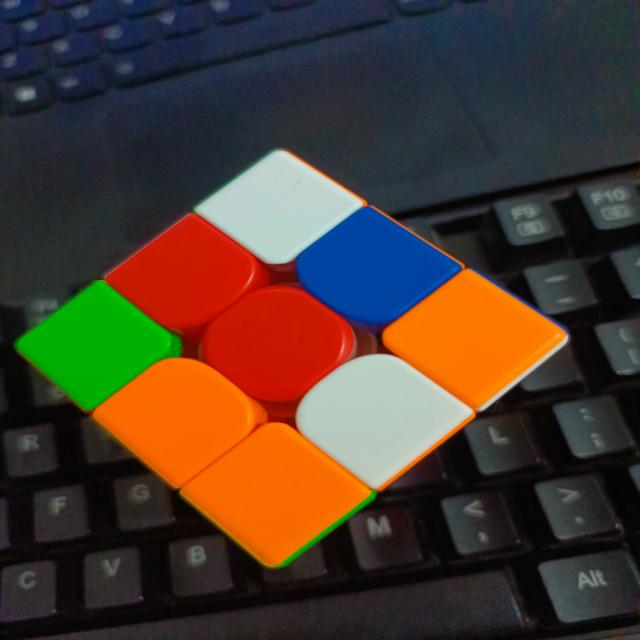rubik: (13, 147, 570, 569)
